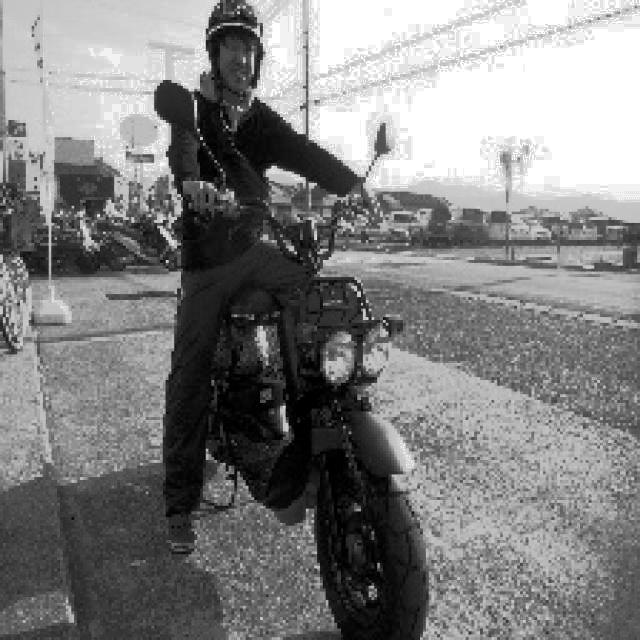Bike: (221, 185, 453, 639)
